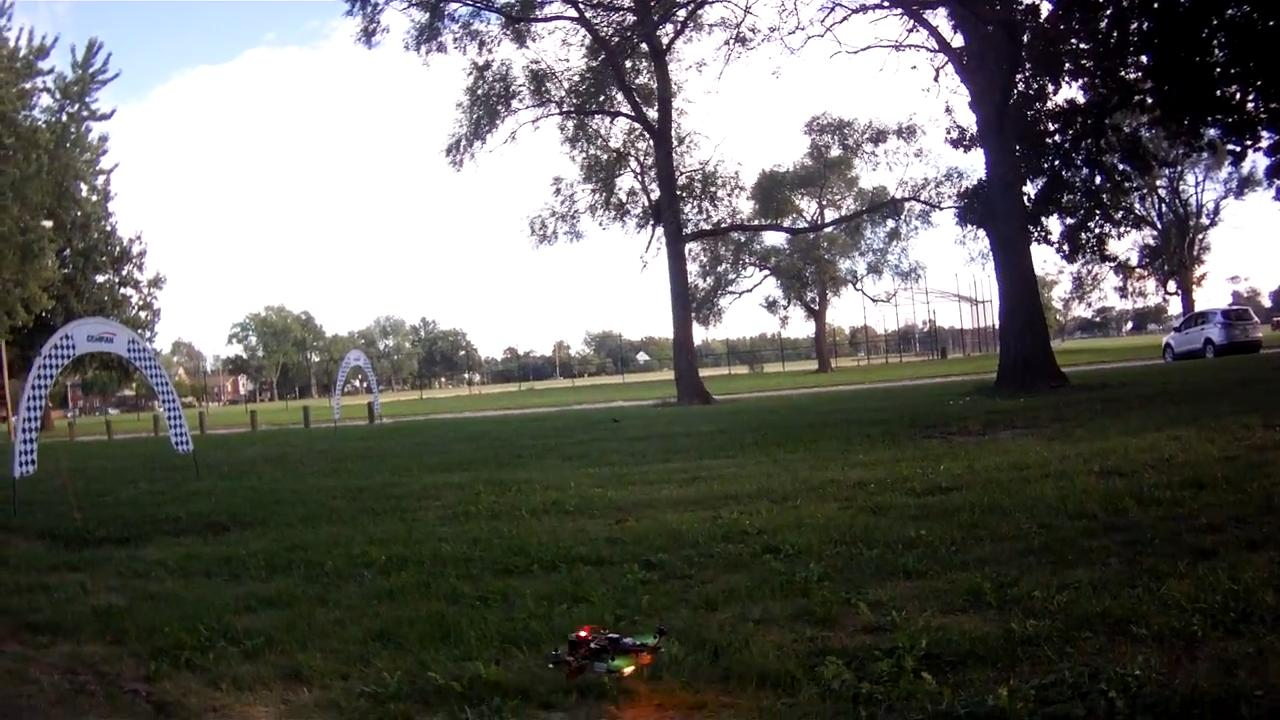gate: (5, 310, 194, 482), (330, 347, 382, 423)
